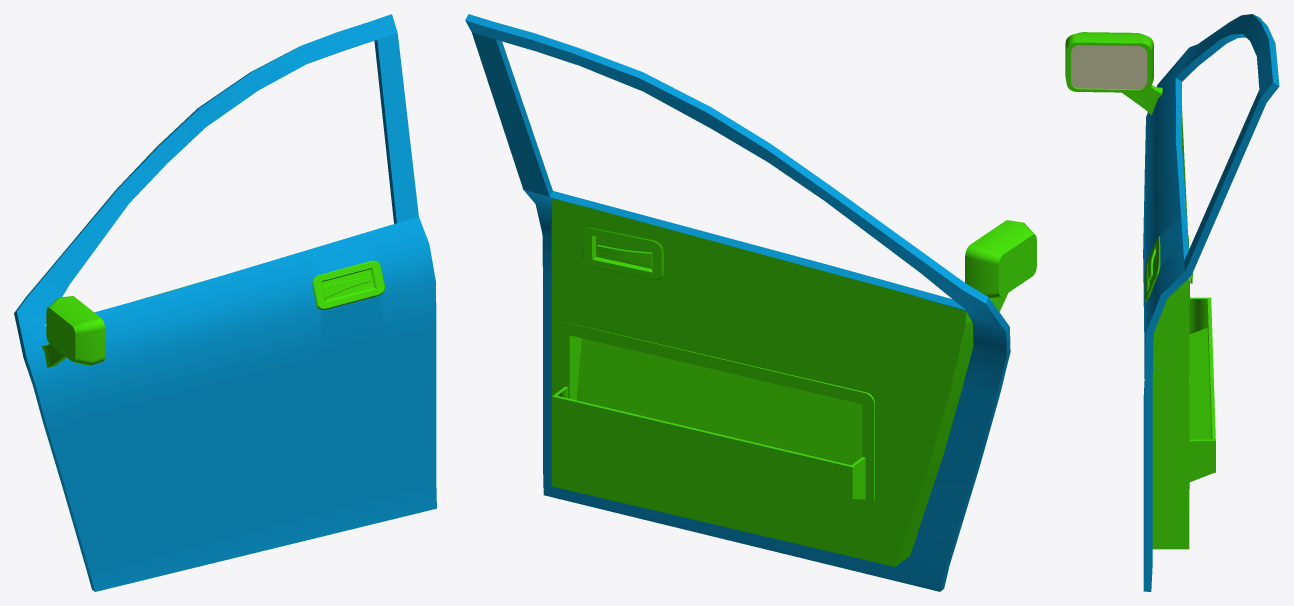
Rendered from Car_Door_01.fbx.
3 renders of one model, left to right at view 1: azimuth 30°, elevation 25°; view 2: azimuth 150°, elevation 25°; view 3: azimuth 270°, elevation 25°, orthographic. The views are drawn at different scales.
Parts seen in each view (by area): view 1: Car_Door_01; view 2: Car_Door_01; view 3: Car_Door_01.
Part boxes in pixels (x1=…): Car_Door_01: x1=14, y1=14, x2=436, y2=591; Car_Door_01: x1=465, y1=14, x2=1036, y2=591; Car_Door_01: x1=1065, y1=14, x2=1279, y2=591.
Size of the model in its own units: 121 by 126 by 47.17.
